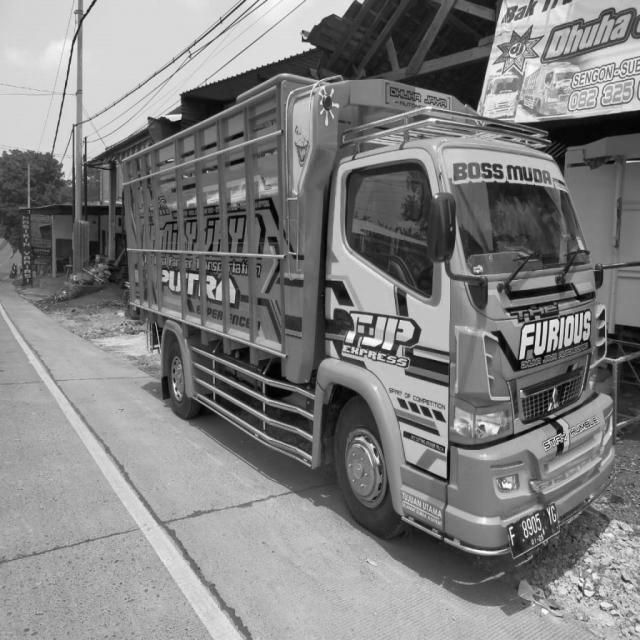truck: (287, 107, 632, 561)
